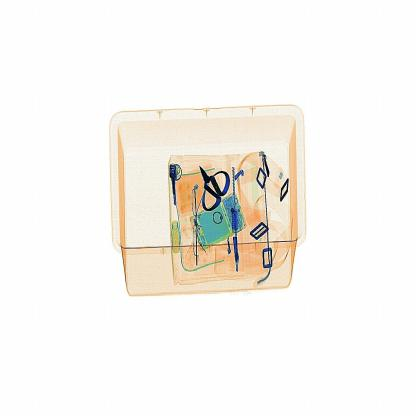gun: (189, 154, 242, 230)
